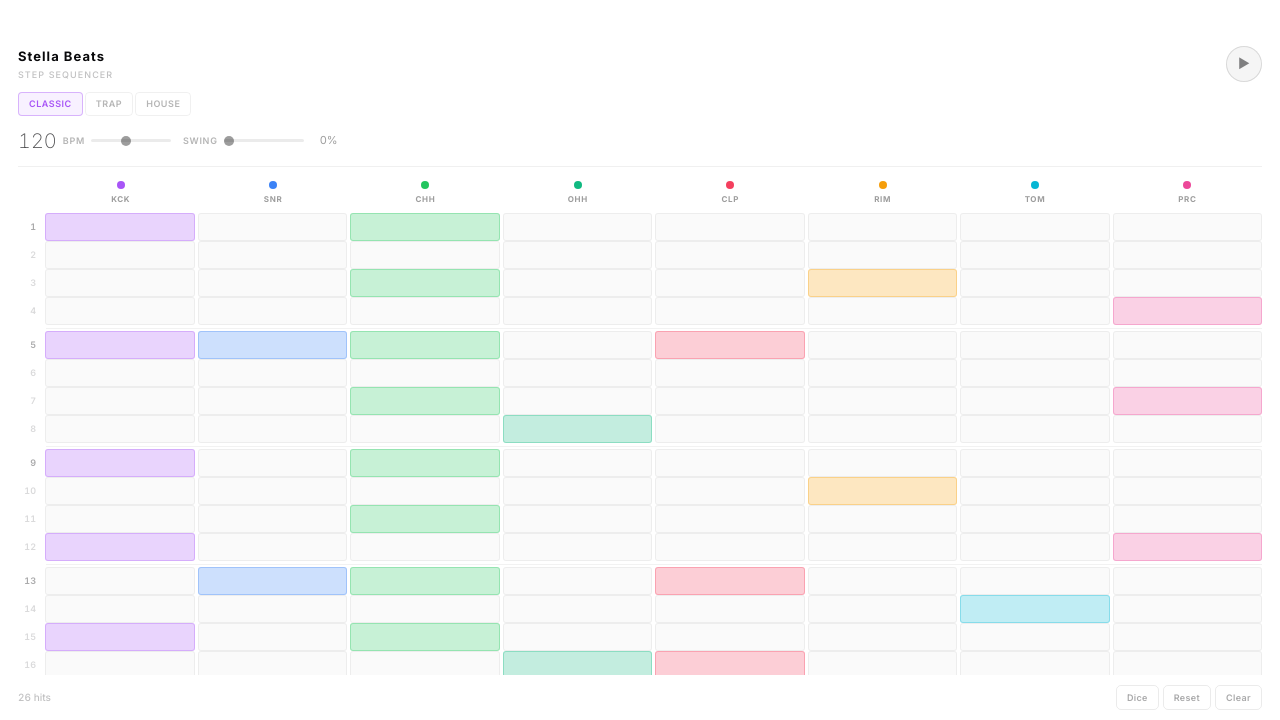
Test: DJStudioDemo › play/stop controls › starts playback and sets current step when play is clicked
Click the button with class "seq-play" at {"x": 1244, "y": 64}, box top-left (1226, 46), bottom-right (1262, 82)
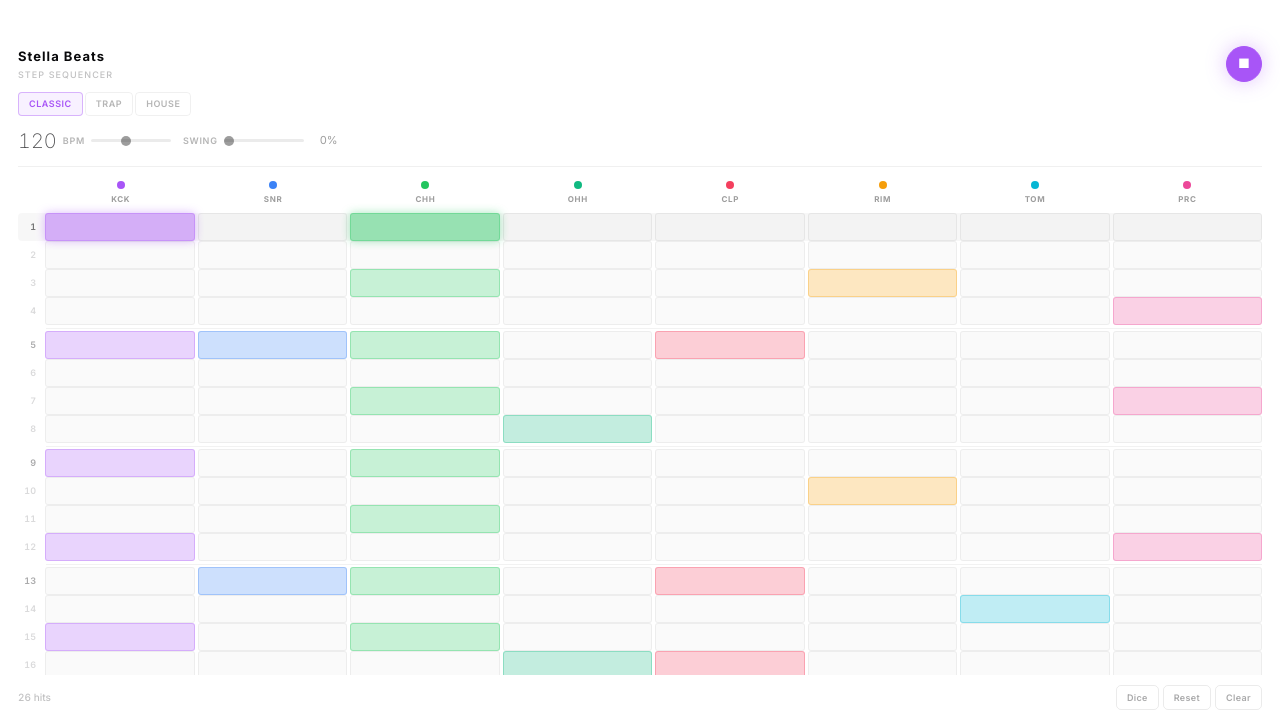
Expected: the element with class "current" is shown, top-left (18, 212), bottom-right (1262, 240)
